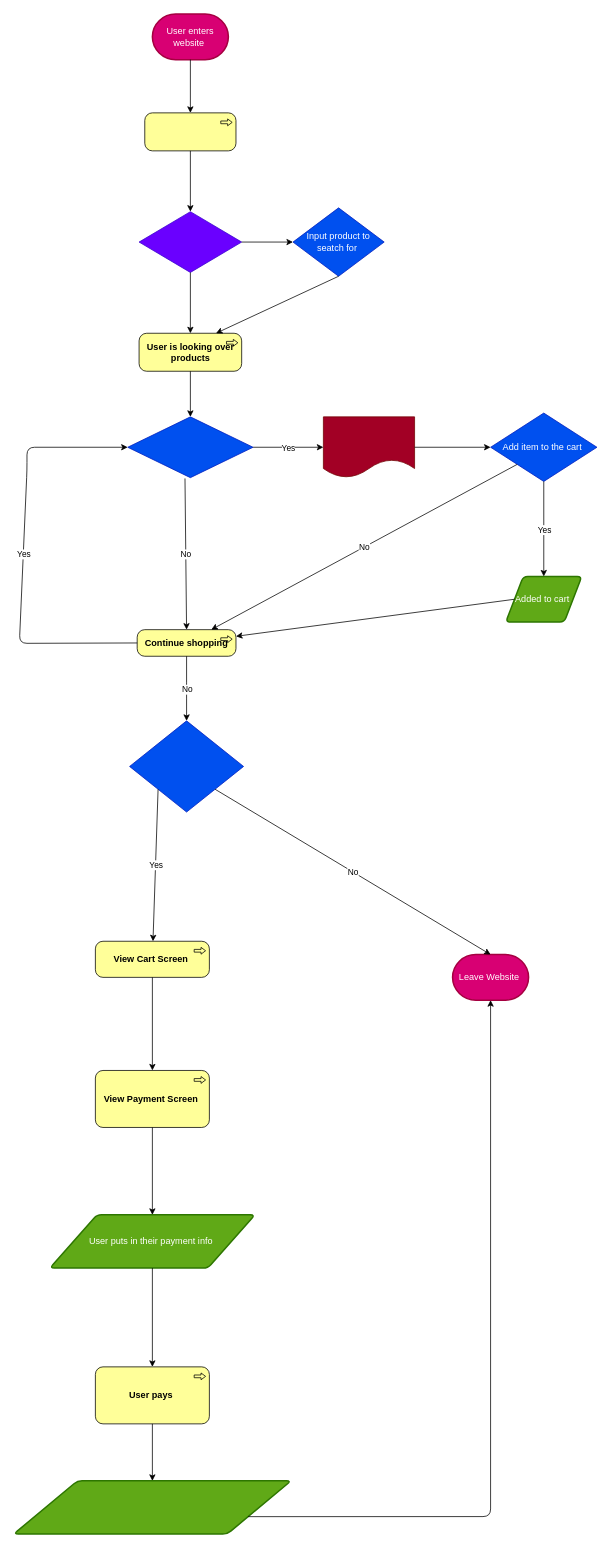
The diagram is 610 pixels wide and 1547 high, and some of its shapes have lost their labels. The centre of each missing label's shape, as x and y in pixels:
"Checkout" goes at [186,766].
"confirmation screen and email is sent" goes at [152,1507].
"Explore Front Page" goes at [190,241].
"Products webpage opens" goes at [369,447].
"User is at front page" goes at [190,131].
"User looks for specific product" goes at [190,447].
